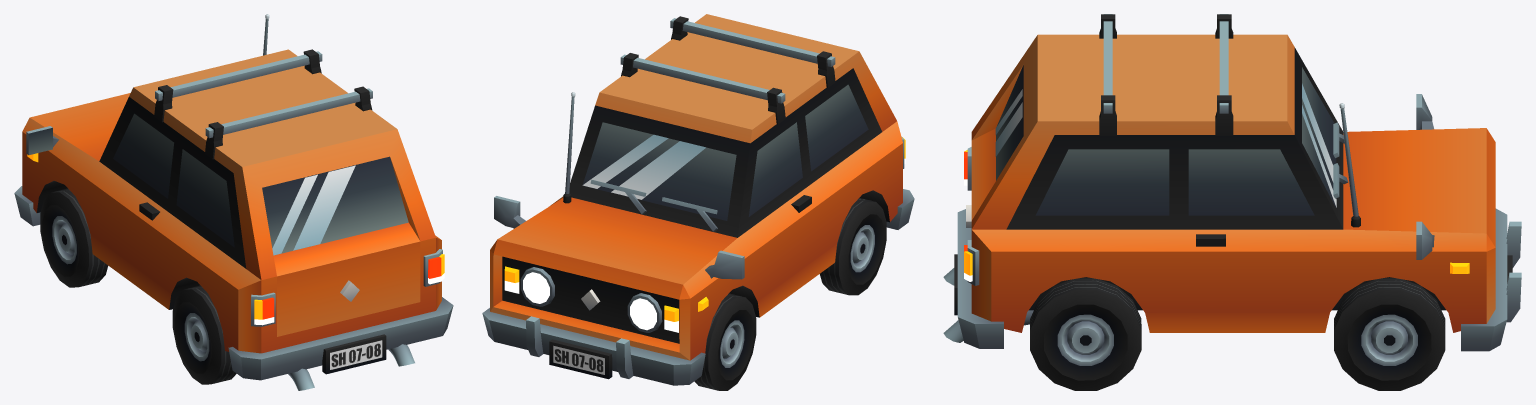
3 views of the same model, side by side, from view 1: azimuth 30°, elevation 25°; view 2: azimuth 150°, elevation 25°; view 3: azimuth 270°, elevation 25° (orthographic). The views are drawn at different scales.
Visible parts, largest first — view 1: suv_blue; view 2: suv_blue; view 3: suv_blue.
Part boxes in pixels (x1,y1,x2,y2): suv_blue: (14,14,453,390); suv_blue: (482,14,914,390); suv_blue: (943,14,1521,390).
Bounding box in the file's own units: 2.75 × 2.52 × 4.77.
Materials: 2 (2 with a texture image).
